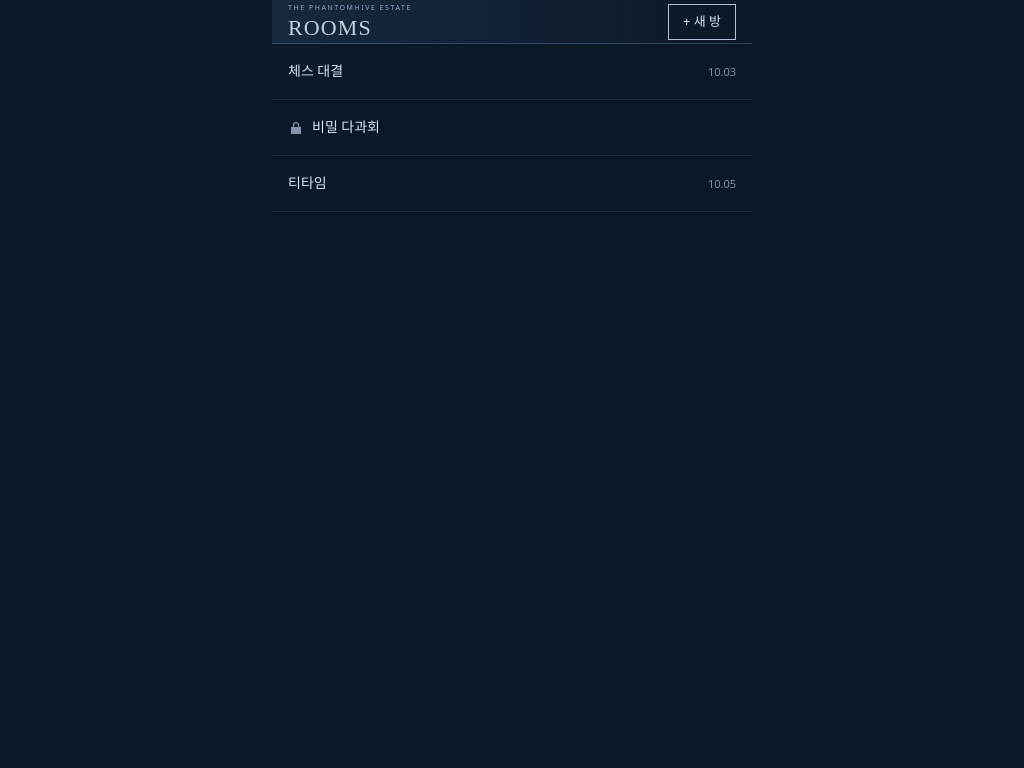
입장 시트 제출 (F-RM-43 · §6.8 · R-LOCK-004 · R-LOCK-007 · R-LOCK-008) › TC-RM-049(b): 조용한 시도 INTERNAL → 시트 + 문구, 읽기 전용 전환 없음
Click the button with aria-label "비밀 다과회, 잠긴 방": (346, 127) left=272, top=100, right=752, bottom=156
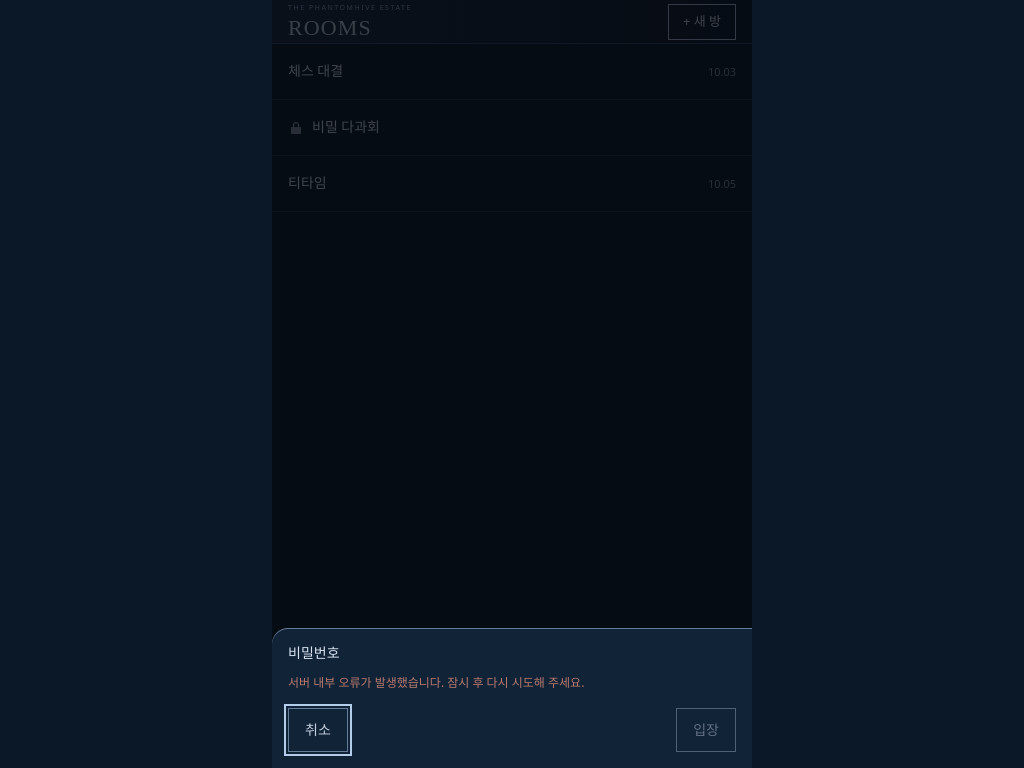
Expected: the button named "새 방 만들기" is shown, left=668, top=4, right=736, bottom=40
Expected: the message reads "서버 내부 오류가 발생했습니다. 잠시 후 다시 시도해 주세요.", left=288, top=674, right=584, bottom=691
